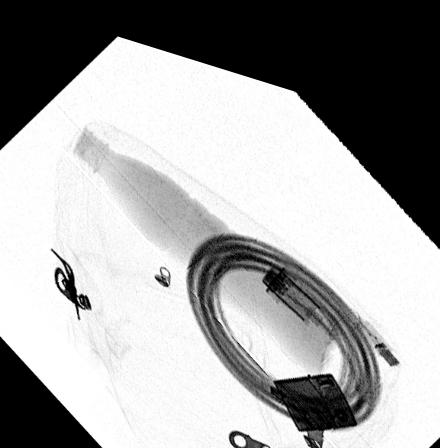Lighter: (273, 350, 359, 412)
